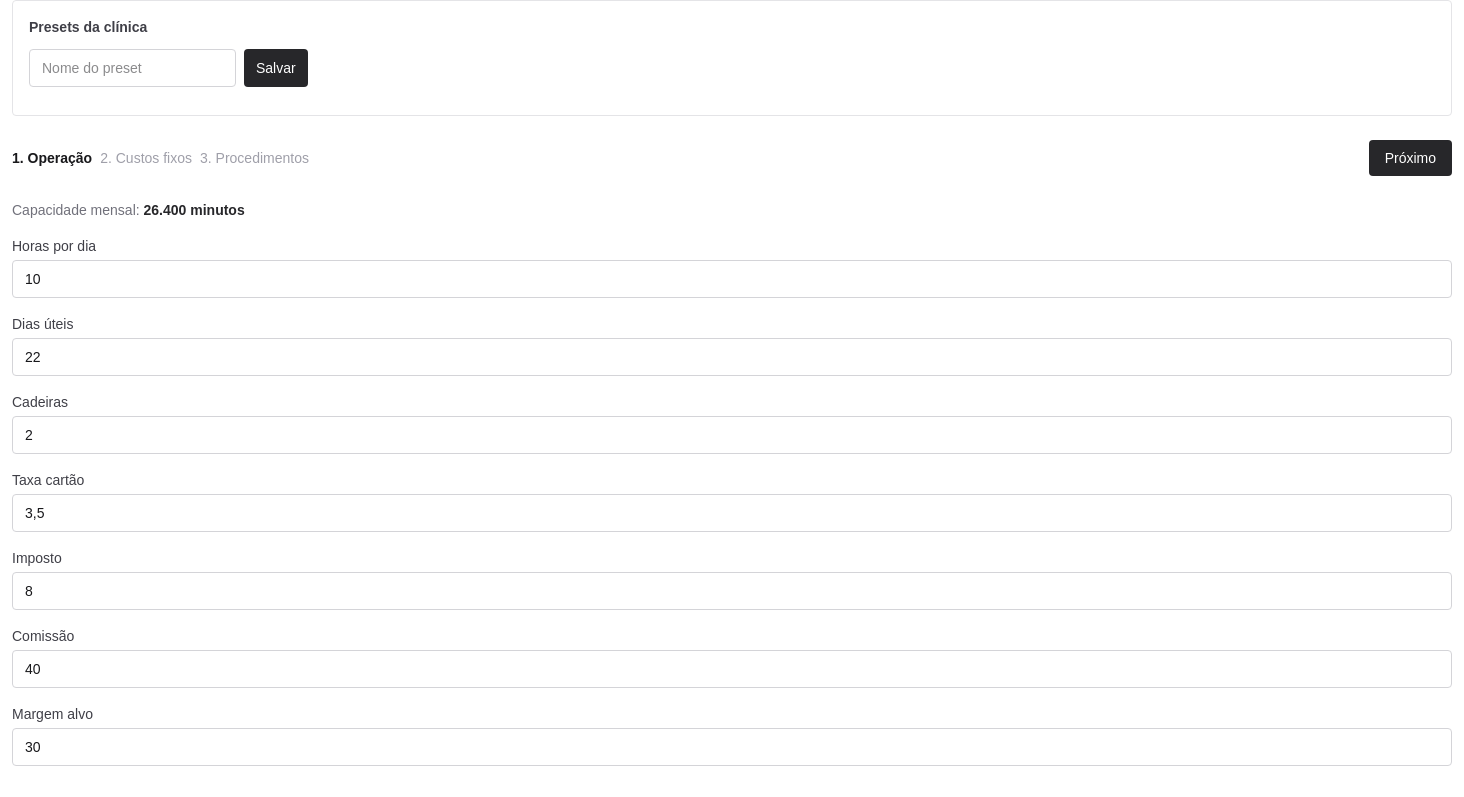
Test: LucreWizard › renders a validation banner when capacity is zero
The image size is (1464, 797).
Step 1. Replace the text in the field labelled "Horas por dia" with "0" → coordinates (732, 279), box x1=12 y1=260 x2=1452 y2=298
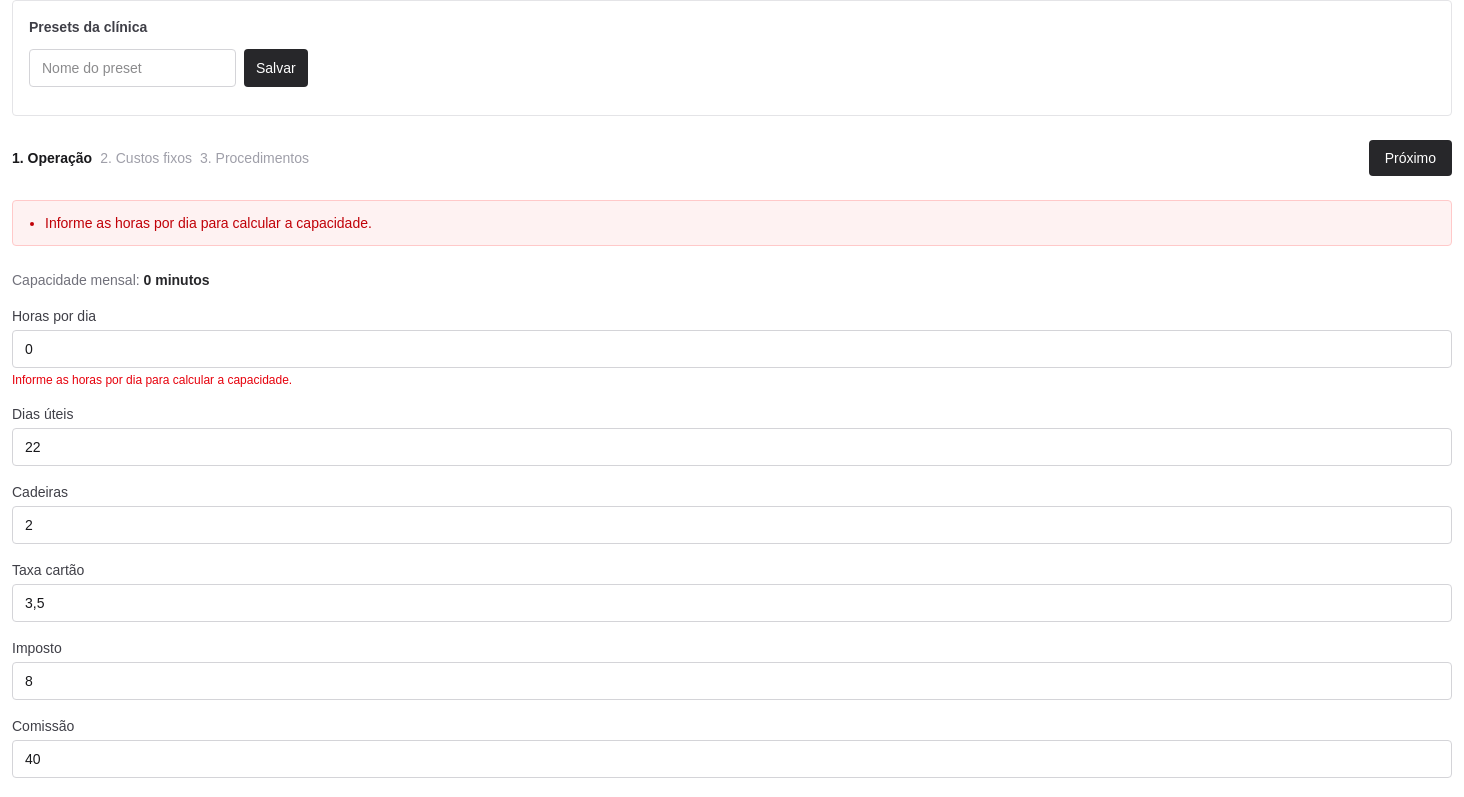
Result: the list item "Informe as horas por dia para calcular a capacidade." is shown at x1=45 y1=215 x2=372 y2=231
